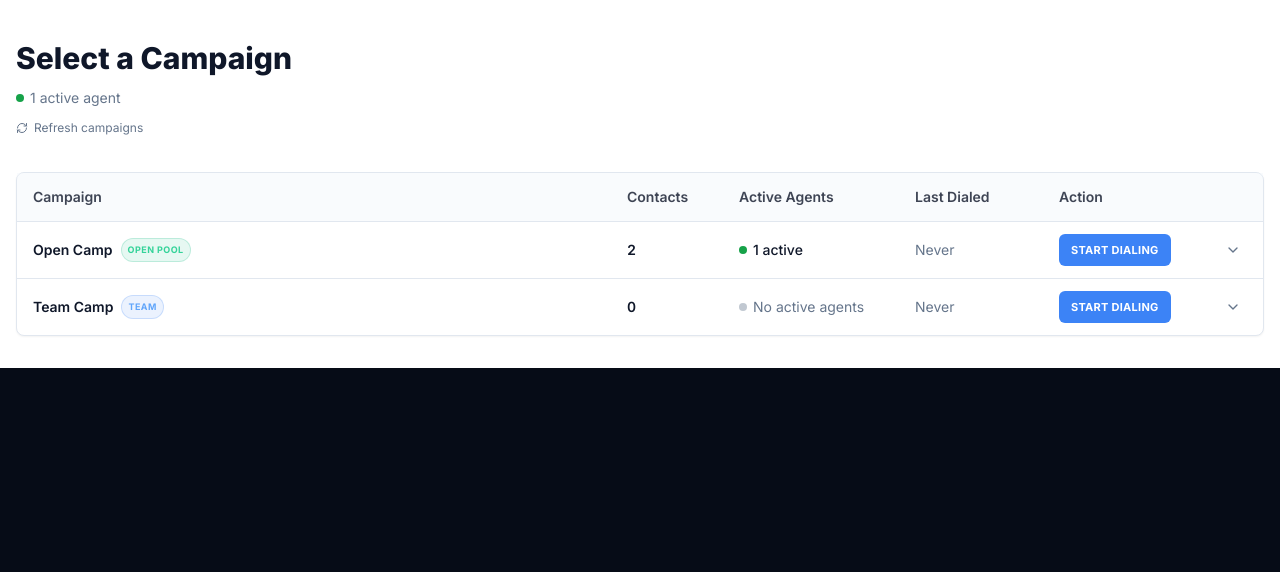
Test: expand/collapse › is a single-open accordion (D4)
Click the row "Open Camp Open Pool 2 1 active Never Start Dialing".
click(640, 250)  # box [17,221,1263,278]
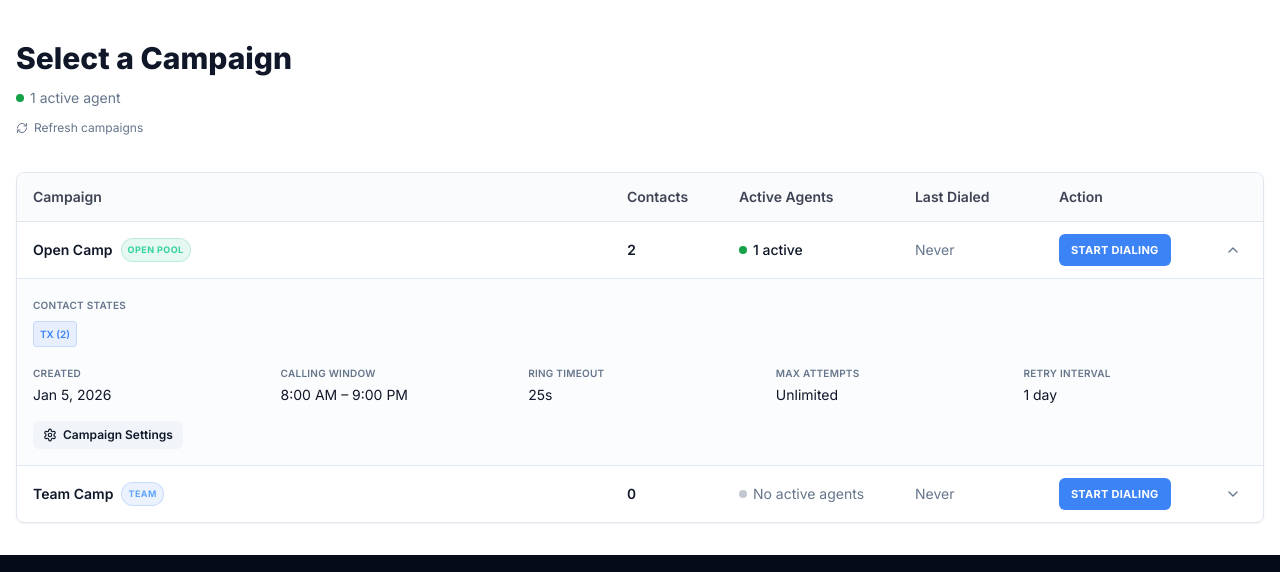
Click the row "Team Camp Team 0 No active agents Never Start Dialing".
click(73, 493)  # box [17,465,1263,522]
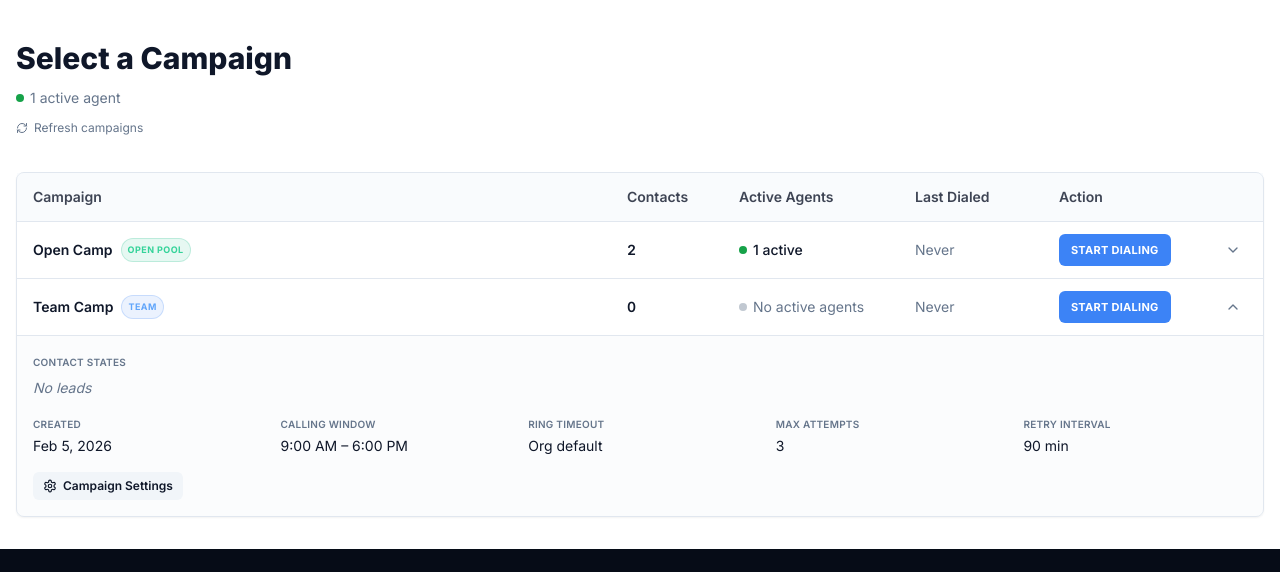
Now the row with test id "campaign-details-c-team" is shown, box [17,335,1263,516]
Now the row with test id "campaign-details-c-open" is gone
